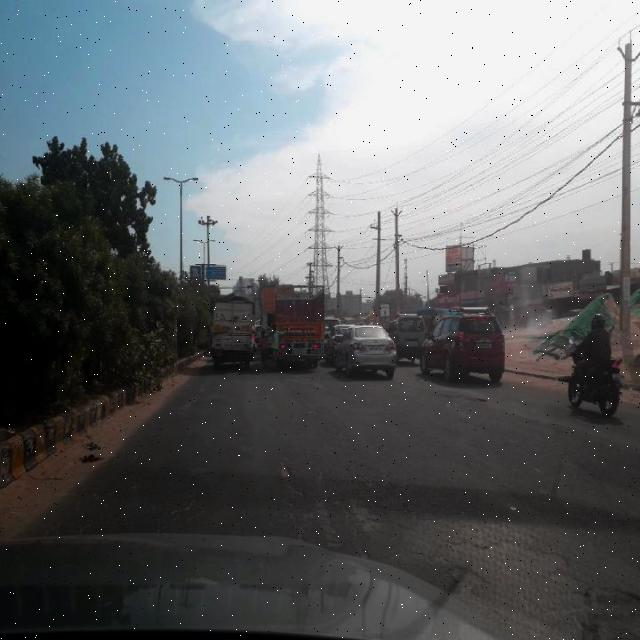D00: (154, 472, 214, 534), (274, 448, 314, 539), (333, 470, 369, 552)
D20: (271, 435, 430, 552), (46, 418, 182, 530)
D43: (418, 484, 632, 634)
